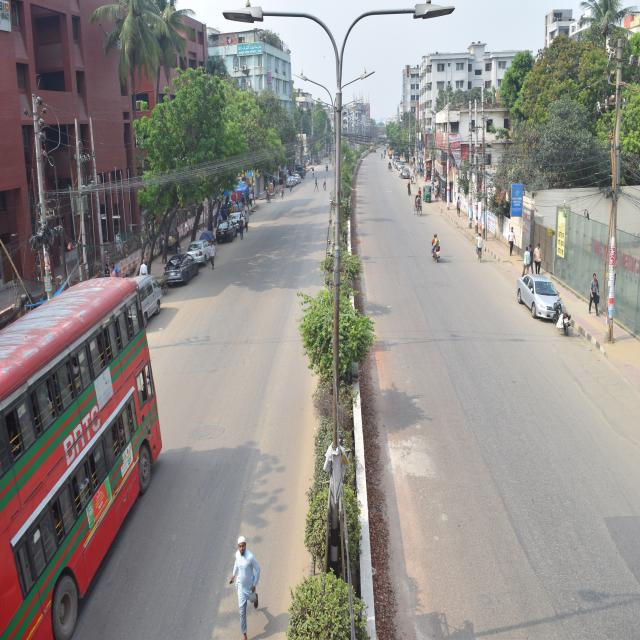bus: (11, 294, 161, 587)
car: (515, 266, 561, 324), (164, 251, 196, 294), (185, 224, 210, 274), (218, 208, 230, 251), (233, 191, 246, 230), (392, 146, 408, 173), (400, 159, 413, 188), (284, 172, 293, 192)
microbus: (132, 266, 166, 328)
motorbike: (553, 304, 572, 345), (428, 238, 442, 262)
